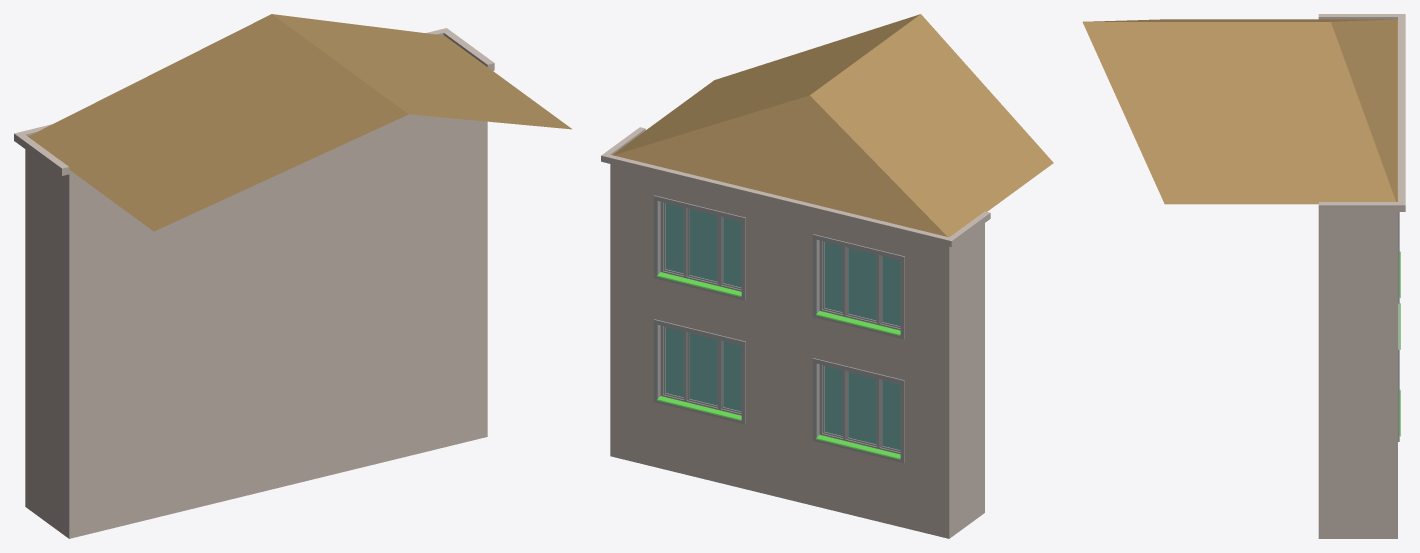
File: House_4_3.FBX
The picture shows the model from 3 angles, left to right: view 1: azimuth 30°, elevation 25°; view 2: azimuth 150°, elevation 25°; view 3: azimuth 270°, elevation 25°; orthographic projection. The views are drawn at different scales.
Visible parts, largest first — view 1: H4-mod-3_LOD0; view 2: H4-mod-3_LOD0; view 3: H4-mod-3_LOD0.
Boxes of the visible parts, box(x1,y1,x2,y2) form: H4-mod-3_LOD0: box(14, 14, 571, 538); H4-mod-3_LOD0: box(601, 14, 1053, 538); H4-mod-3_LOD0: box(1082, 14, 1405, 538).
Size of what is drawn, in the model's own units: 911 by 944 by 651.
